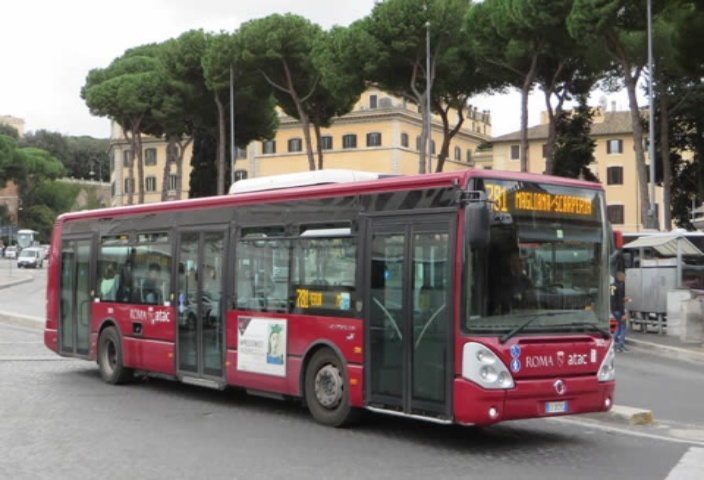bus: (39, 169, 634, 434)
